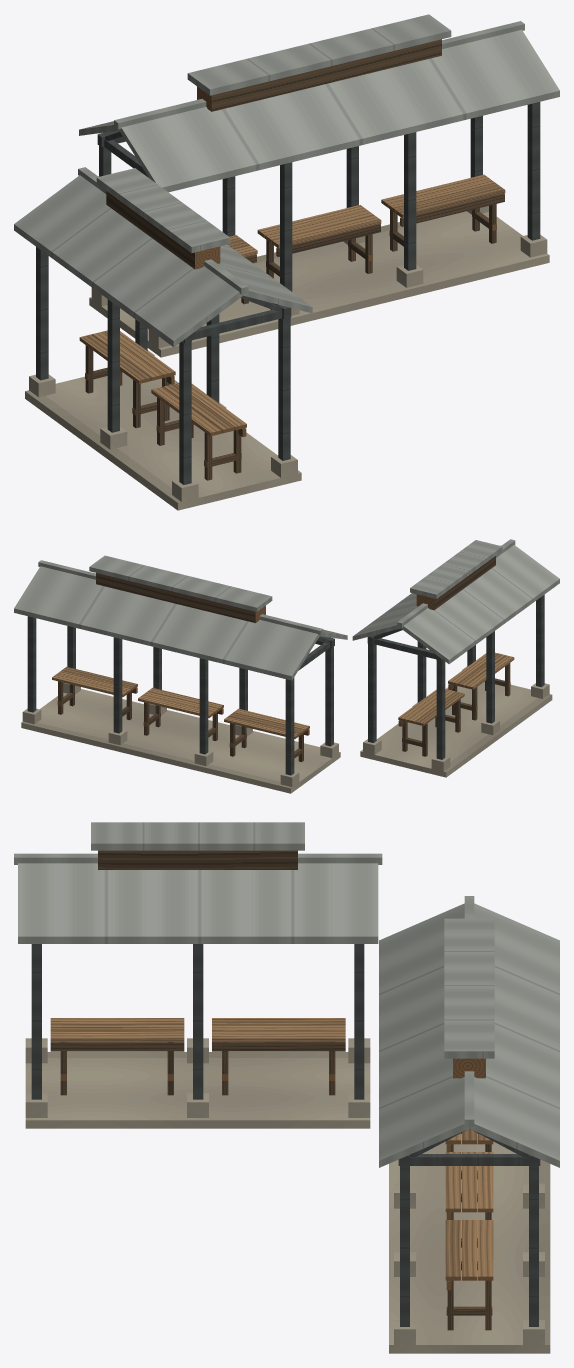
File: st-johns.glb
3 views of the same model, one above another, from view 1: azimuth 30°, elevation 25°; view 2: azimuth 150°, elevation 25°; view 3: azimuth 270°, elevation 25° (orthographic). The views are drawn at different scales.
Parts seen in each view (by area): view 1: st-johns; view 2: st-johns; view 3: st-johns.
Boxes of the visible parts, left/top/right/bottom form: st-johns: left=14, top=14, right=559, bottom=510; st-johns: left=14, top=539, right=559, bottom=793; st-johns: left=14, top=822, right=559, bottom=1353.
Size of the model in its own units: 6.19 by 2.5 by 4.73.
Materials: 1 (1 with a texture image).
